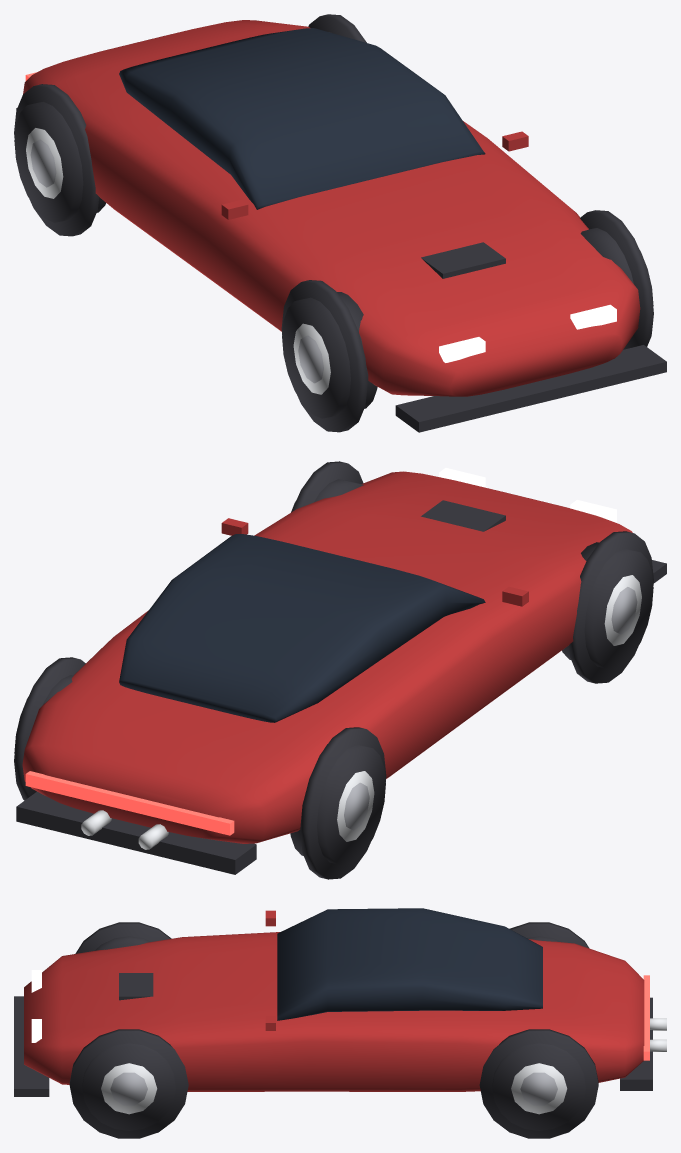
The model's file is car-muscle.glb.
3 renders of one model, top to bottom at view 1: azimuth 30°, elevation 25°; view 2: azimuth 150°, elevation 25°; view 3: azimuth 270°, elevation 25°, orthographic. The views are drawn at different scales.
Parts seen in each view (by area): view 1: body, wheel-front-left, wheel-back-left, wheel-front-right; view 2: body, wheel-front-left, wheel-back-left; view 3: body, wheel-back-right, wheel-front-right, wheel-front-left.
Part boxes in pixels (left/top/right/bottom): body: left=14, top=14, right=666, bottom=432; wheel-front-left: left=282, top=292, right=377, bottom=418; wheel-back-left: left=14, top=101, right=105, bottom=222; wheel-front-right: left=580, top=228, right=653, bottom=305; body: left=14, top=461, right=666, bottom=879; wheel-front-left: left=562, top=542, right=653, bottom=669; wheel-back-left: left=290, top=744, right=385, bottom=865; body: left=14, top=908, right=666, bottom=1138; wheel-back-right: left=492, top=1043, right=585, bottom=1130; wheel-front-right: left=82, top=1043, right=175, bottom=1130; wheel-front-left: left=95, top=936, right=150, bottom=950.
Bounding box in the file's own units: 2.2 × 1.23 × 5.16.
